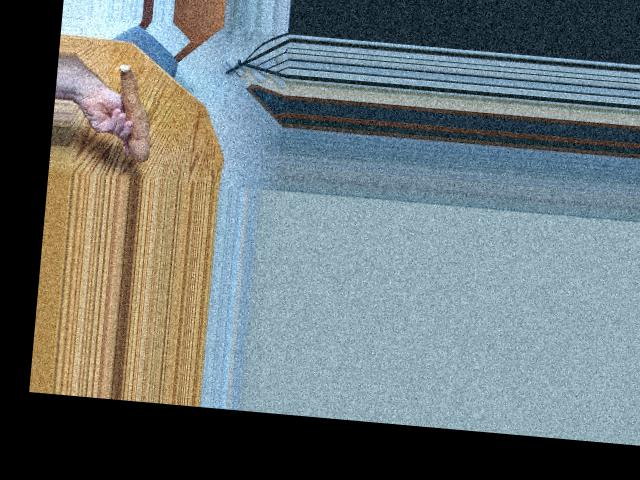sweet_potato: (110, 62, 160, 161)
